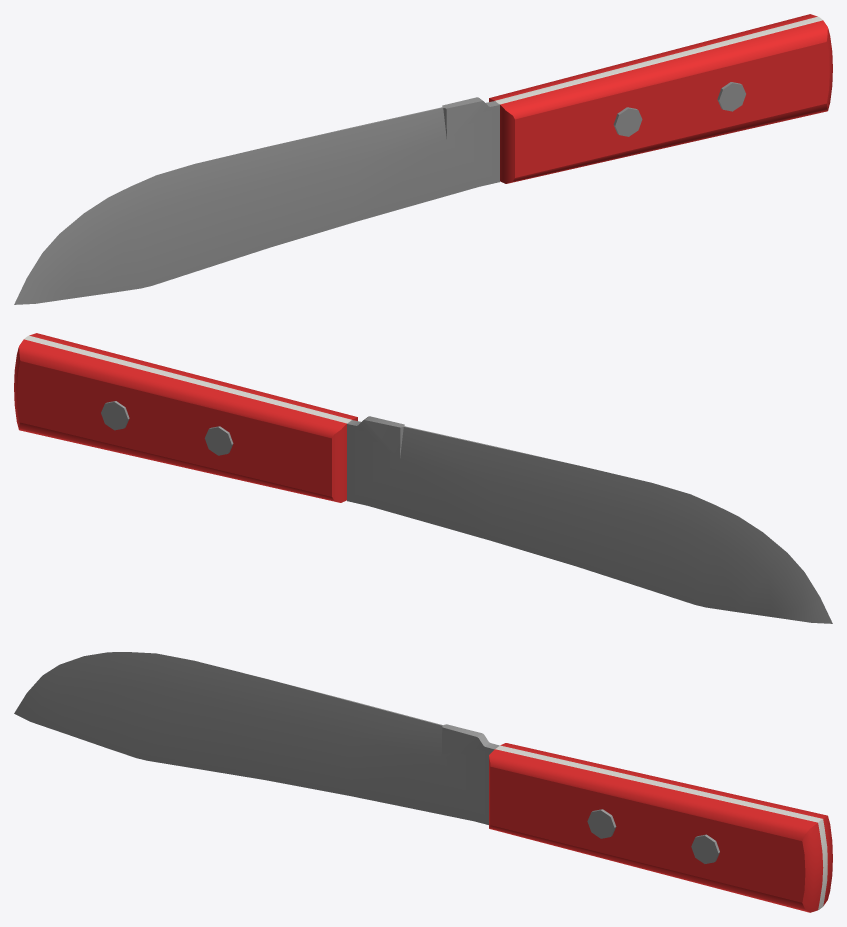
Rendered from kitchen_knife.fbx.
The picture shows the model from 3 angles, top to bottom: view 1: azimuth 30°, elevation 25°; view 2: azimuth 150°, elevation 25°; view 3: azimuth 330°, elevation 25°; orthographic projection.
Visible parts, largest first — view 1: kitchen_knife; view 2: kitchen_knife; view 3: kitchen_knife.
Boxes of the visible parts, x1,y1,x2,y2 form: kitchen_knife: (14,14,832,304); kitchen_knife: (14,333,832,623); kitchen_knife: (14,652,832,912).
Bounding box in the file's own units: 1.99 × 0.2557 × 0.1177.
